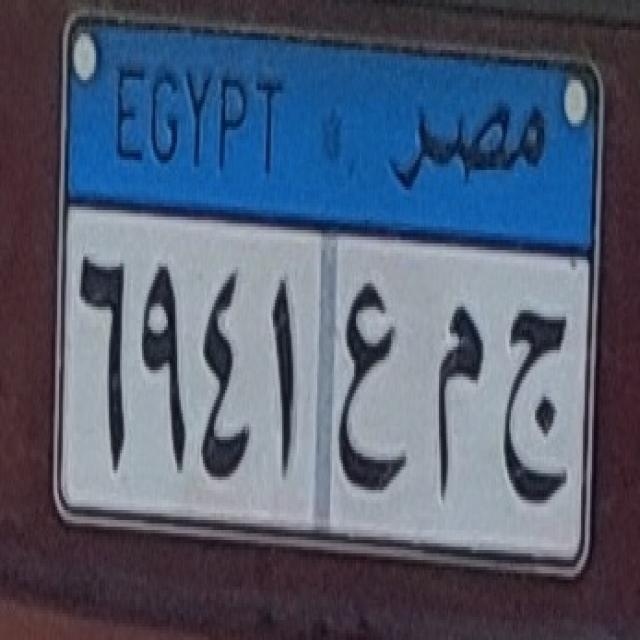1: (262, 276, 312, 484)
4: (195, 264, 258, 489)
6: (75, 248, 139, 474)
9: (135, 261, 198, 482)
Een: (332, 282, 410, 508)
Meem: (422, 308, 485, 512)
geem: (494, 306, 580, 510)
